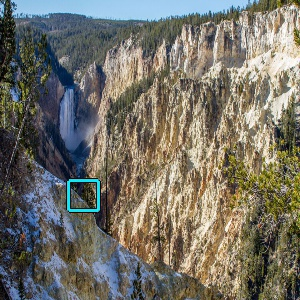square: (64, 177, 102, 214)
